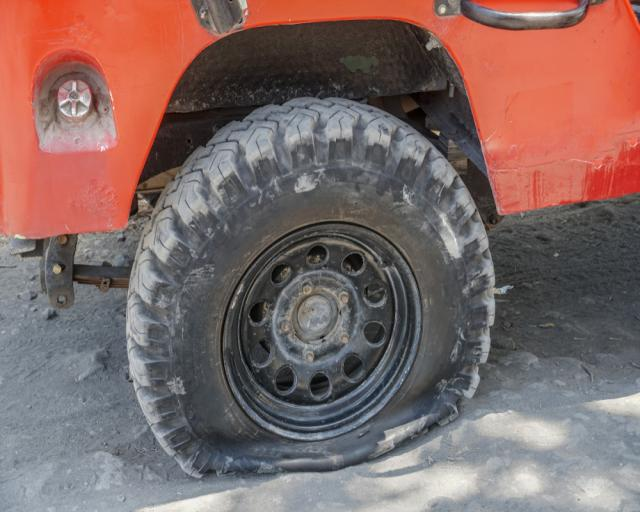tire flat: (124, 97, 497, 478)
